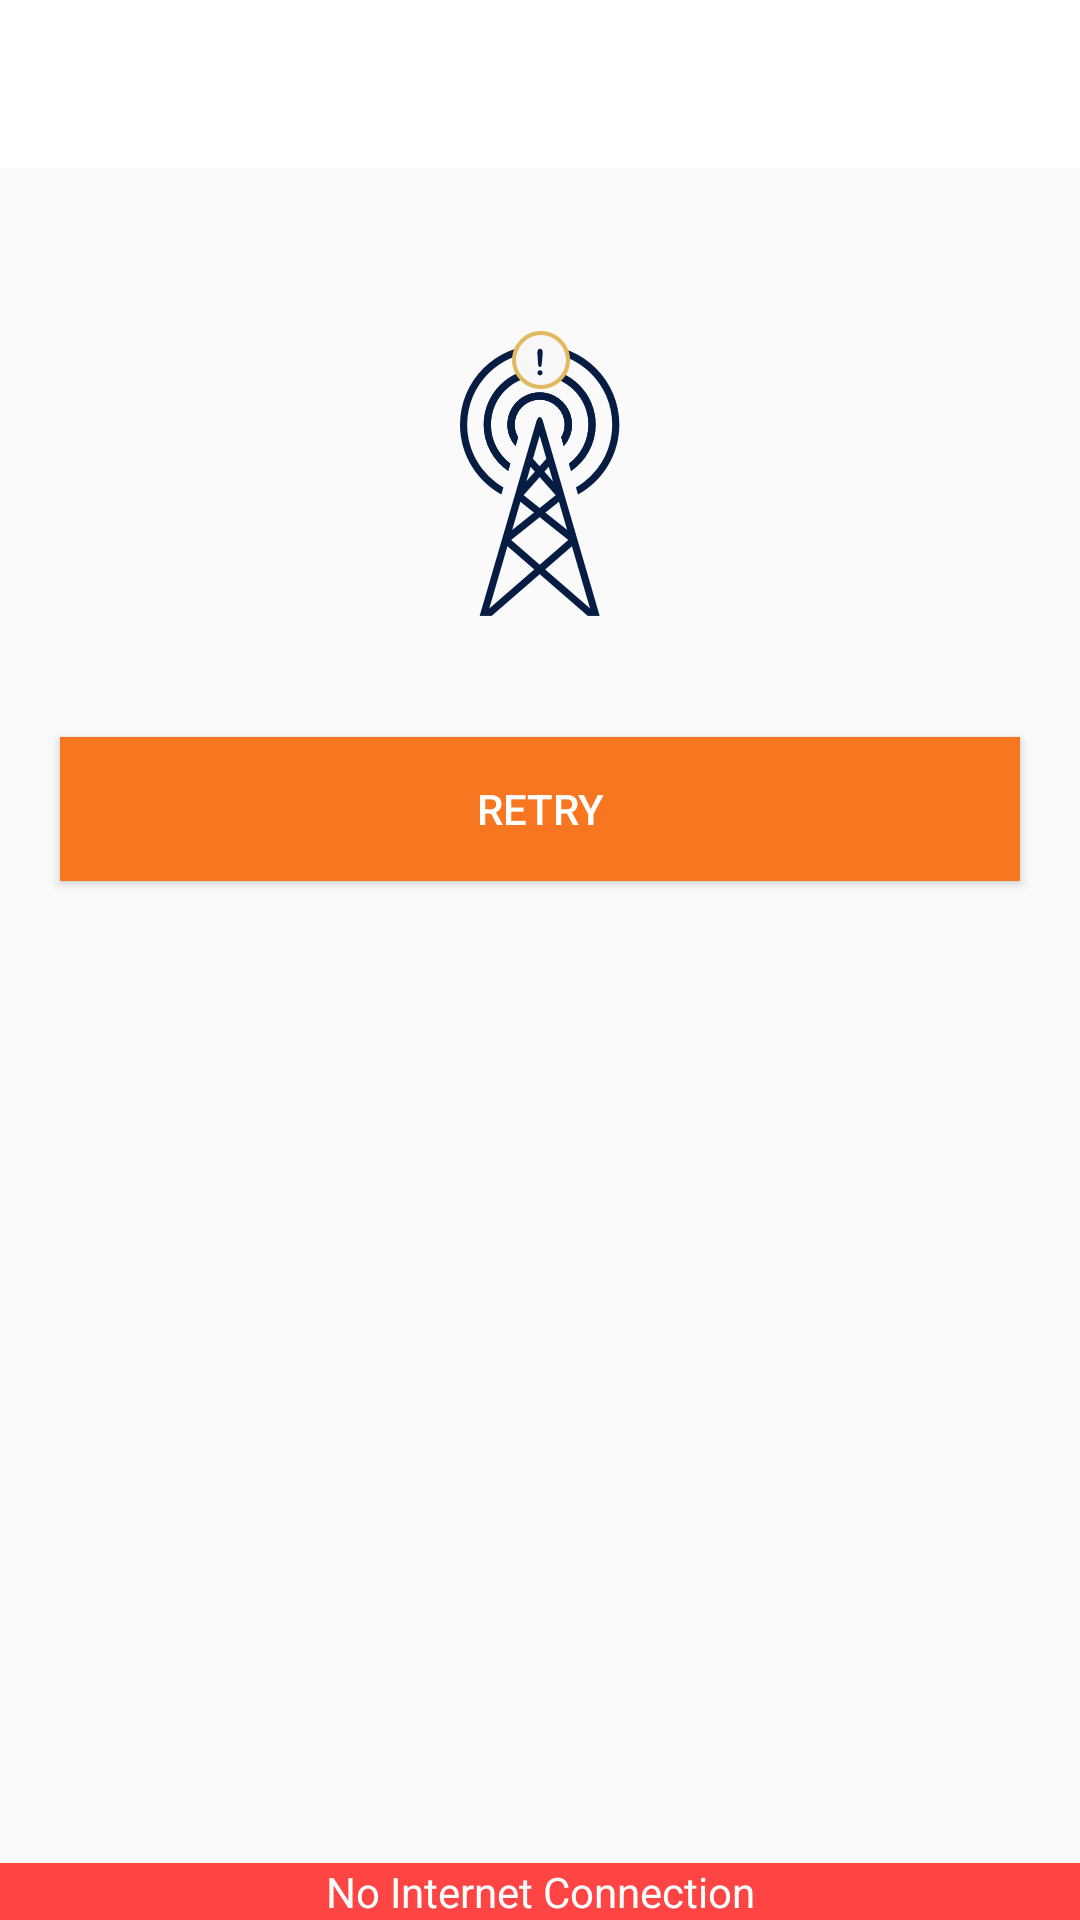

Where to tap for icons on this 1080*1920 app screen, as (x=x, y=y):
no internet: (x=540, y=473)
